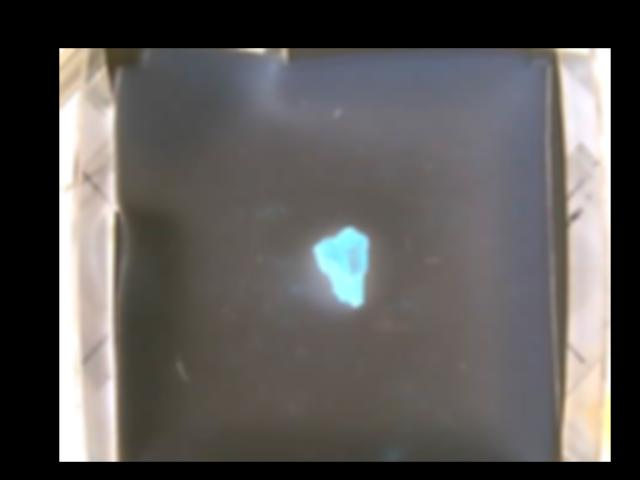Brisk: (310, 225, 368, 307)
